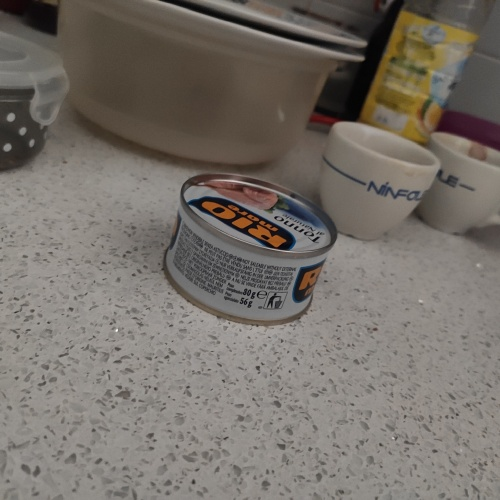tonno: (159, 165, 338, 332)
